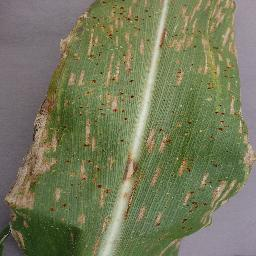Corn_Blight: (4, 1, 255, 253)
